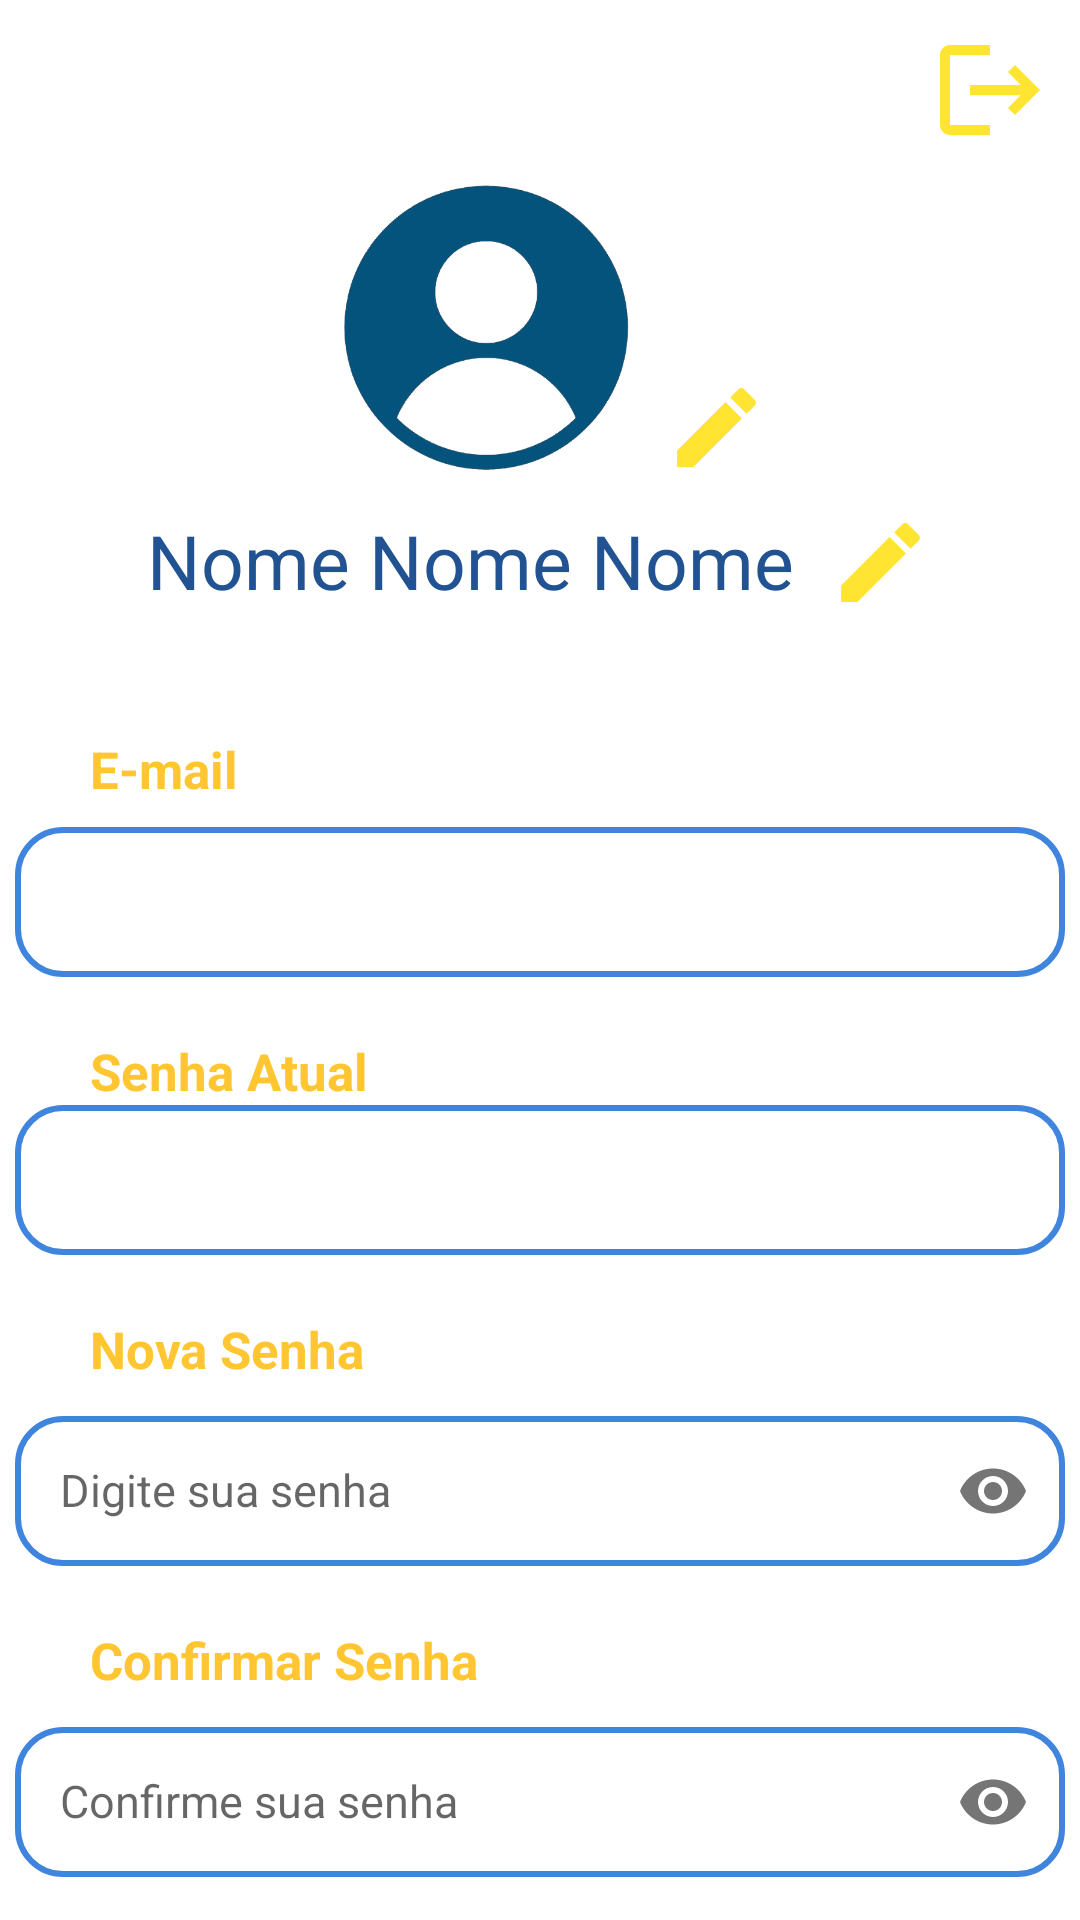

Icon bounding boxes for this 1080px×1920px phone screenshot, format (left=x1, top=y1, right=x2, bottom=y2):
edit: (left=677, top=388, right=756, bottom=467), (left=841, top=523, right=920, bottom=602)
perfil: (left=344, top=185, right=628, bottom=470)
